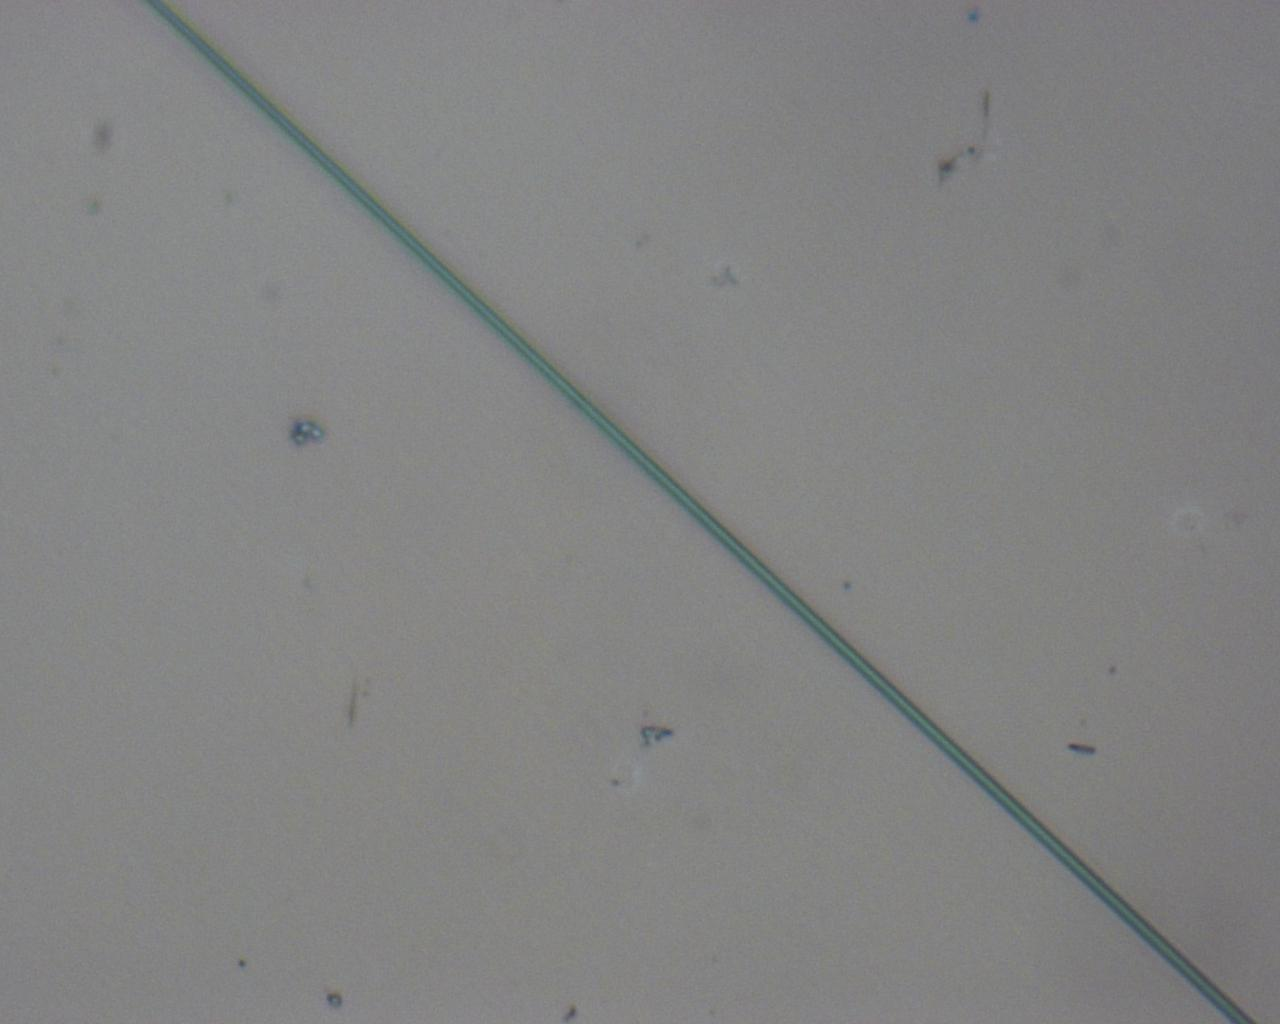fiber: (141, 0, 1257, 1024)
